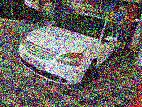car: (16, 13, 120, 87)
